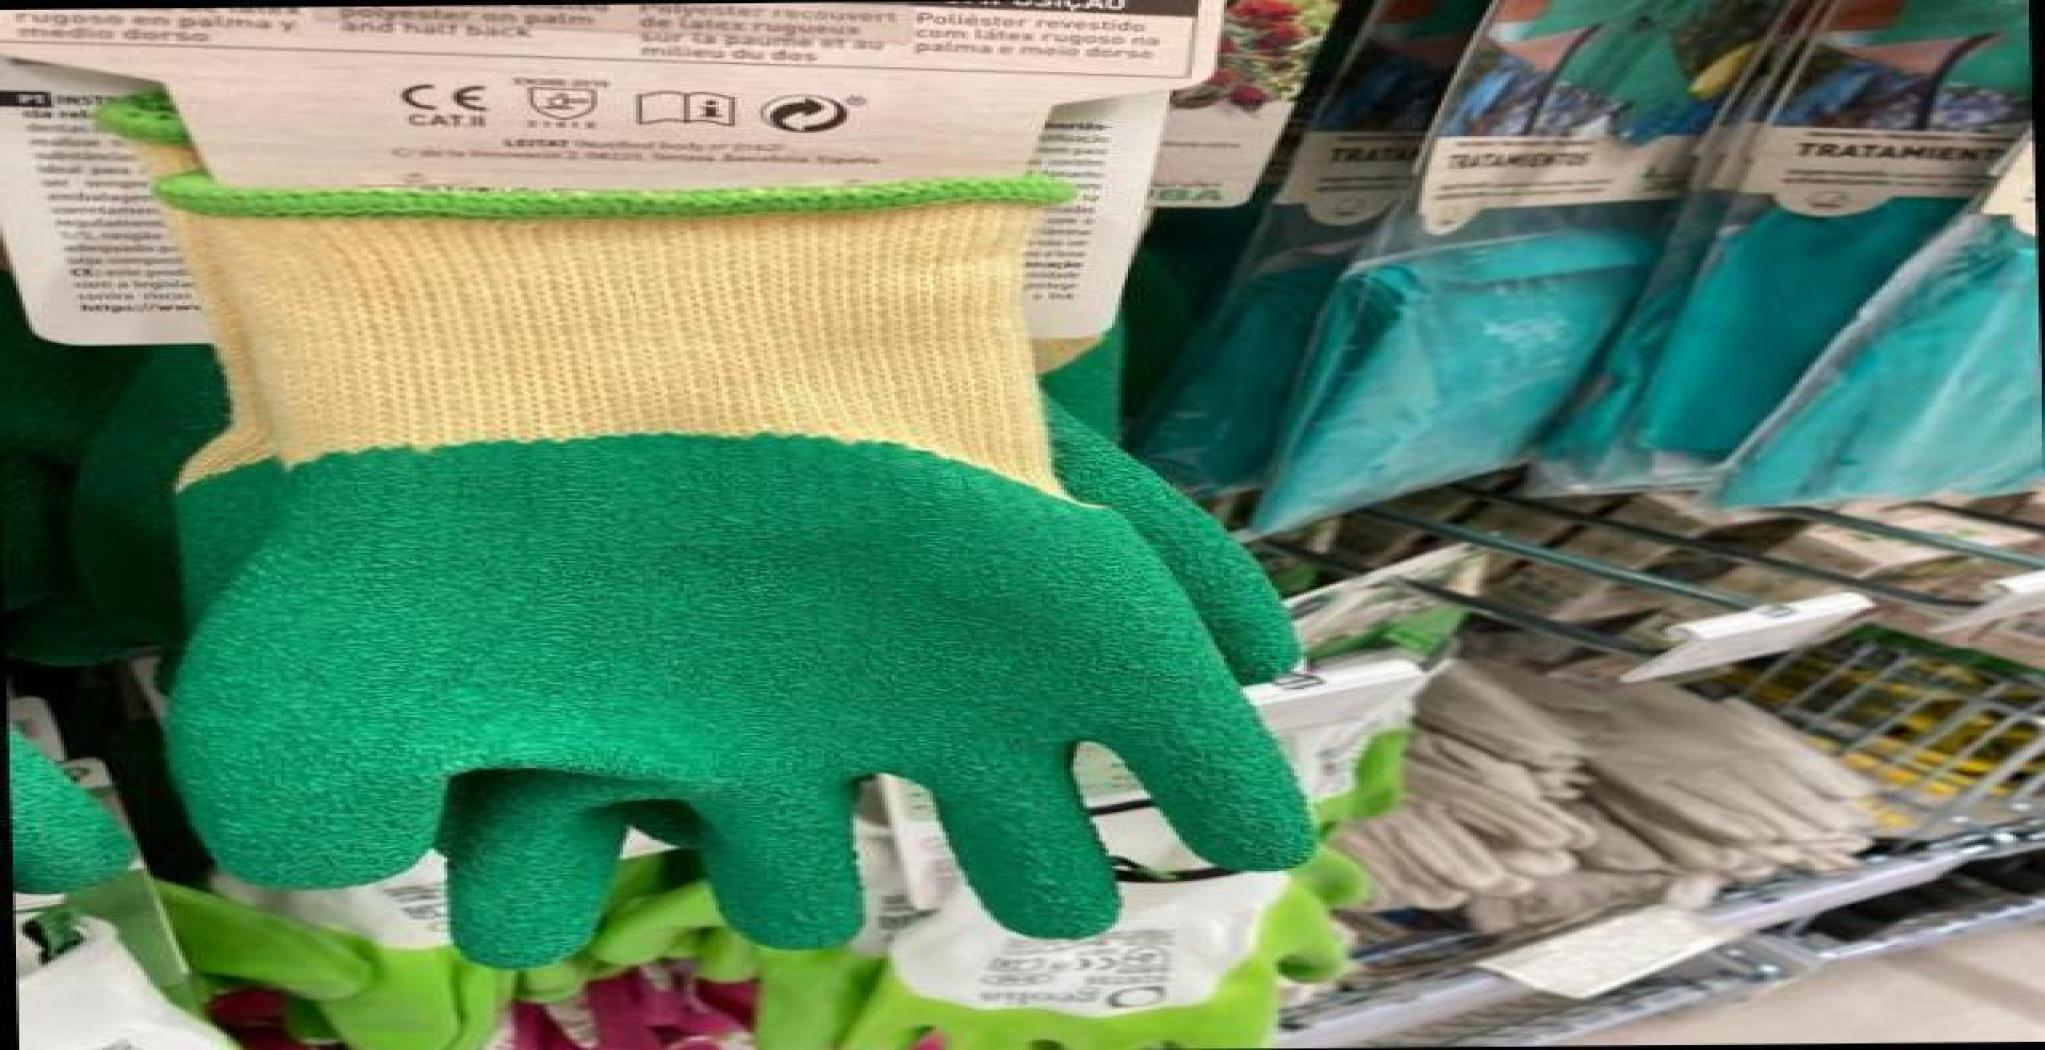gloved: (135, 166, 1366, 976)
